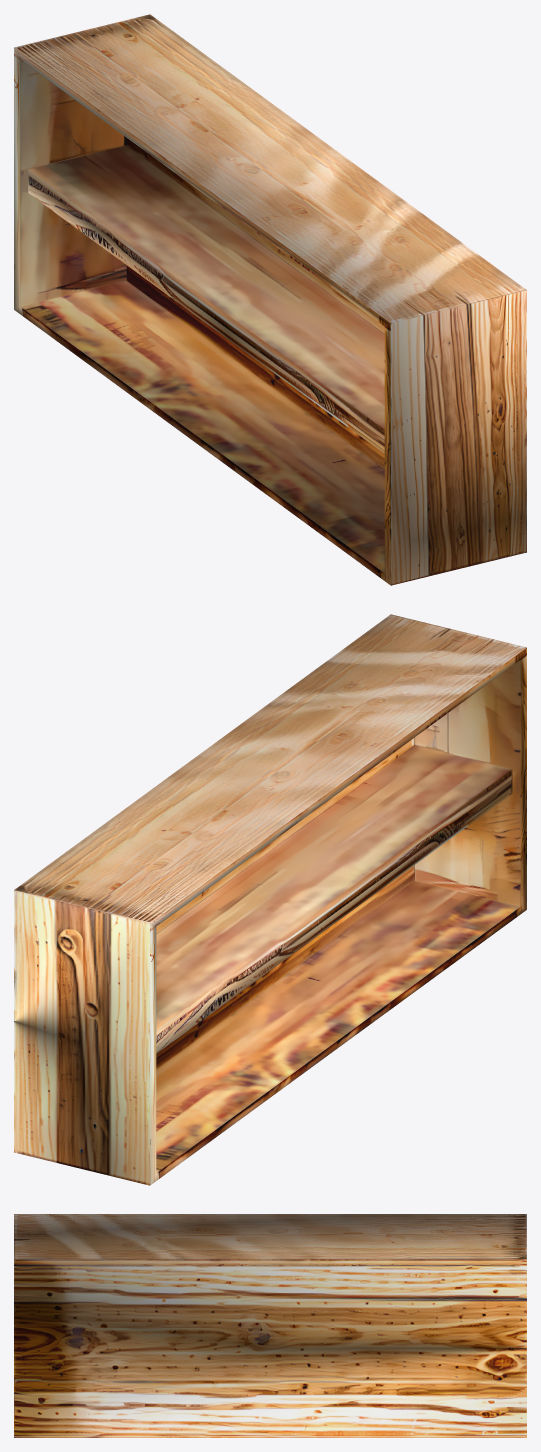
The model's file is shelfVr.glb.
3 renders of one model, top to bottom at view 1: azimuth 30°, elevation 25°; view 2: azimuth 150°, elevation 25°; view 3: azimuth 270°, elevation 25°, orthographic. The views are drawn at different scales.
Size of the model in its own units: 4.17 by 7.68 by 20.
1 material, 1 textured.
